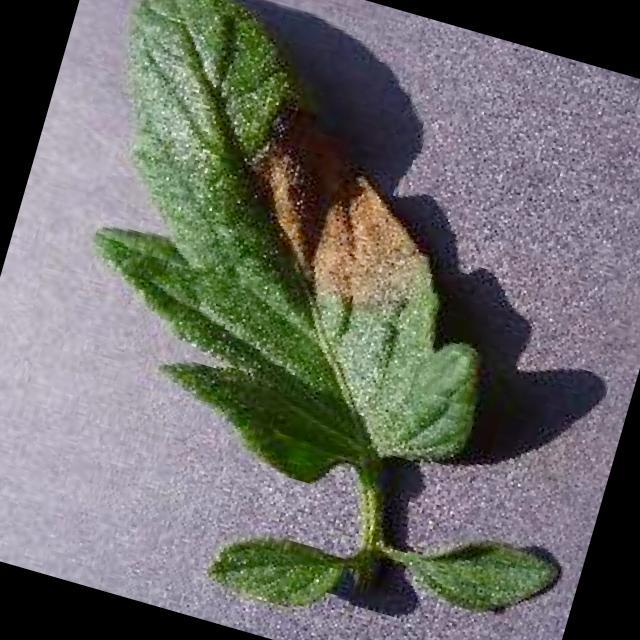Tomato healthy leaf: (402, 509, 568, 637), (195, 508, 346, 631)
Tomato late blight leaf: (21, 0, 566, 519)
